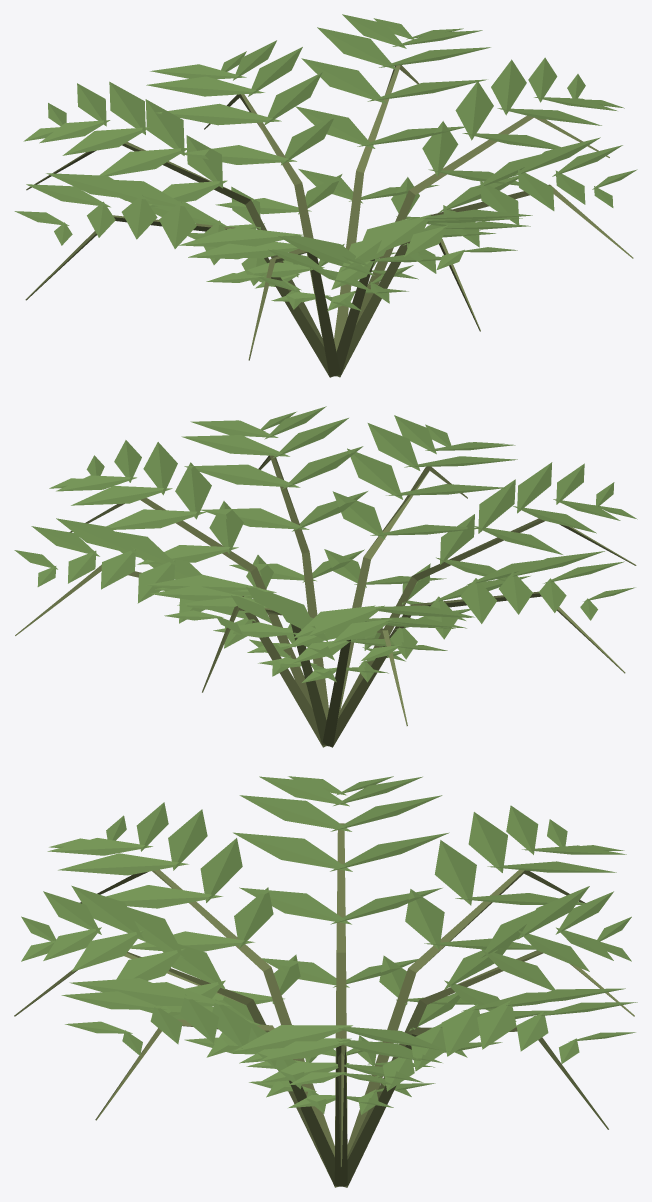
File: fern.glb
The picture shows the model from 3 angles, top to bottom: view 1: azimuth 30°, elevation 25°; view 2: azimuth 150°, elevation 25°; view 3: azimuth 270°, elevation 25°; orthographic projection. The views are drawn at different scales.
Parts seen in each view (by area): view 1: understory_fern_LOD0; view 2: understory_fern_LOD0; view 3: understory_fern_LOD0.
Part boxes in pixels (bbox=[...]): understory_fern_LOD0: bbox=[14, 14, 637, 377]; understory_fern_LOD0: bbox=[14, 406, 637, 747]; understory_fern_LOD0: bbox=[14, 776, 637, 1187].
Size of the model in its own units: 1.79 by 0.6837 by 1.47.
